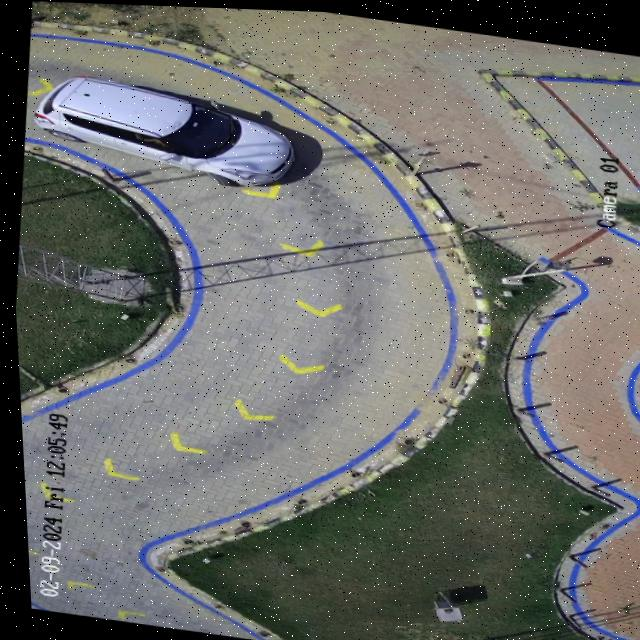car: (30, 71, 292, 184)
